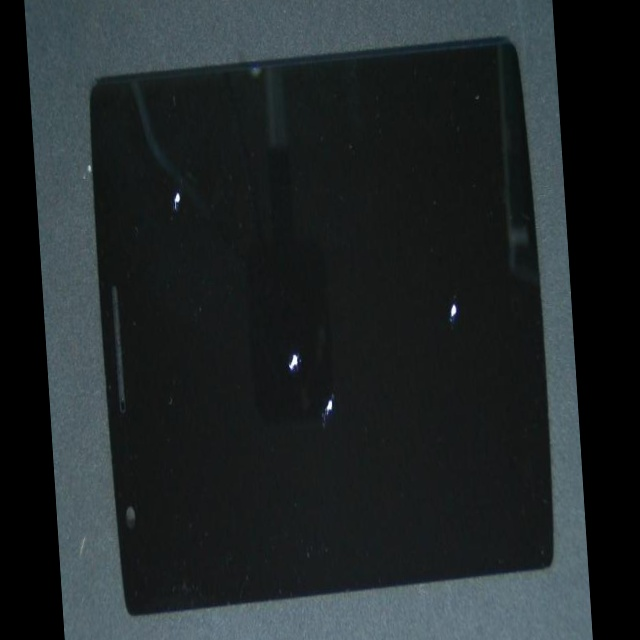stain: (184, 141, 476, 596), (251, 91, 579, 439), (158, 122, 416, 527), (95, 37, 240, 274)
